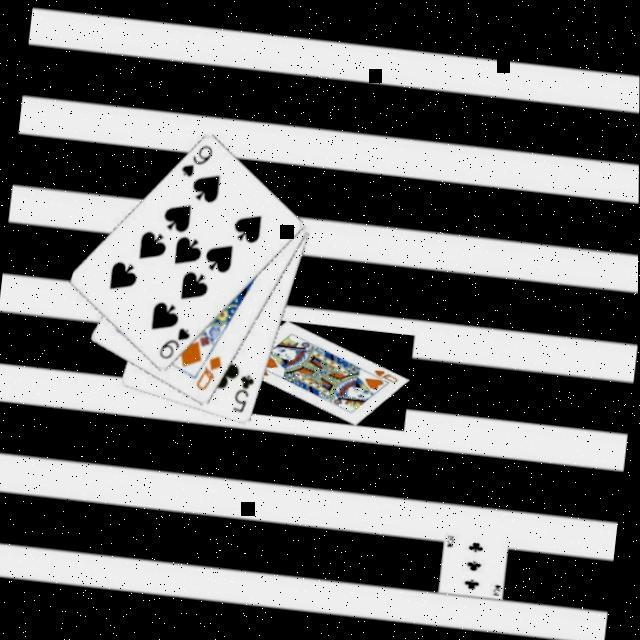5C: (230, 371, 258, 416)
9S: (157, 323, 195, 365), (178, 140, 216, 182)
QD: (194, 350, 226, 395)
